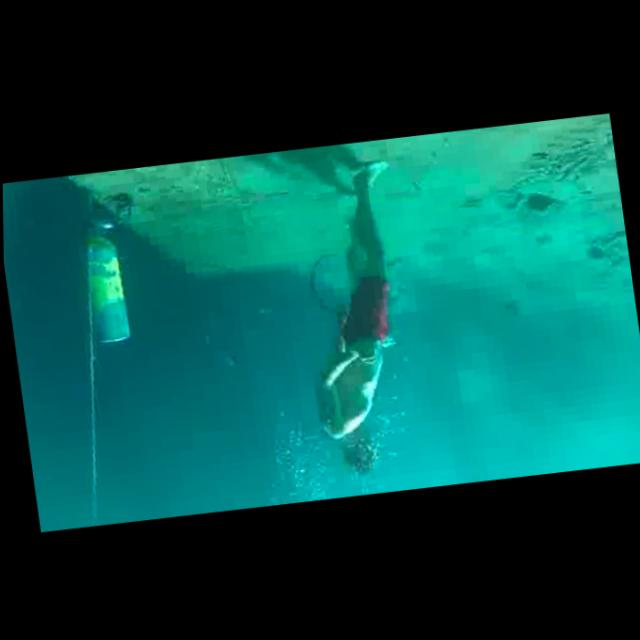human: (281, 153, 428, 482)
